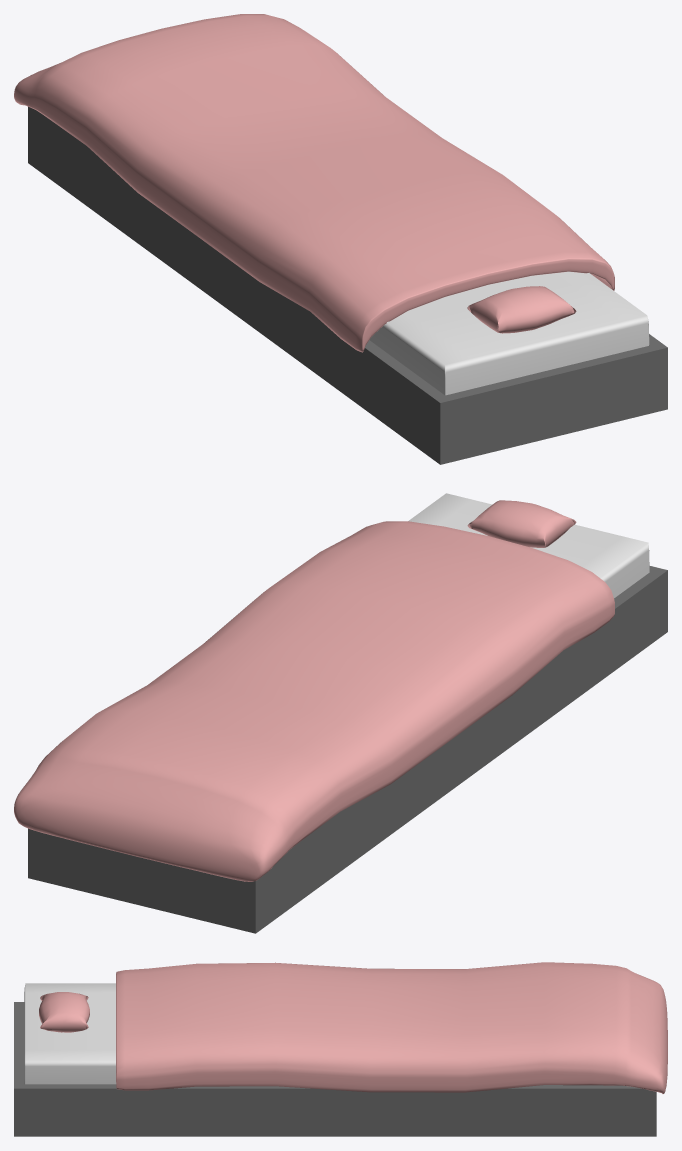
File: bed.fbx
3 views of the same model, one above another, from view 1: azimuth 30°, elevation 25°; view 2: azimuth 150°, elevation 25°; view 3: azimuth 270°, elevation 25° (orthographic). The views are drawn at different scales.
Visible parts, largest first — view 1: pCube3, polySurface1, polySurface2, pCube2; view 2: pCube3, polySurface1, polySurface2, pCube2; view 3: pCube3, polySurface1, polySurface2, pCube2.
Part boxes in pixels (x1,y1,x2,y2): pCube3: [14, 14, 614, 352]; polySurface1: [28, 106, 667, 464]; polySurface2: [369, 271, 649, 395]; pCube2: [467, 286, 576, 333]; pCube3: [14, 521, 614, 881]; polySurface1: [28, 566, 667, 933]; polySurface2: [408, 493, 649, 598]; pCube2: [467, 500, 576, 547]; pCube3: [116, 962, 667, 1093]; polySurface1: [14, 1002, 656, 1136]; polySurface2: [24, 983, 116, 1084]; pCube2: [39, 992, 89, 1032].
Bounding box in the file's own units: 1.12 × 0.5334 × 3.19.
